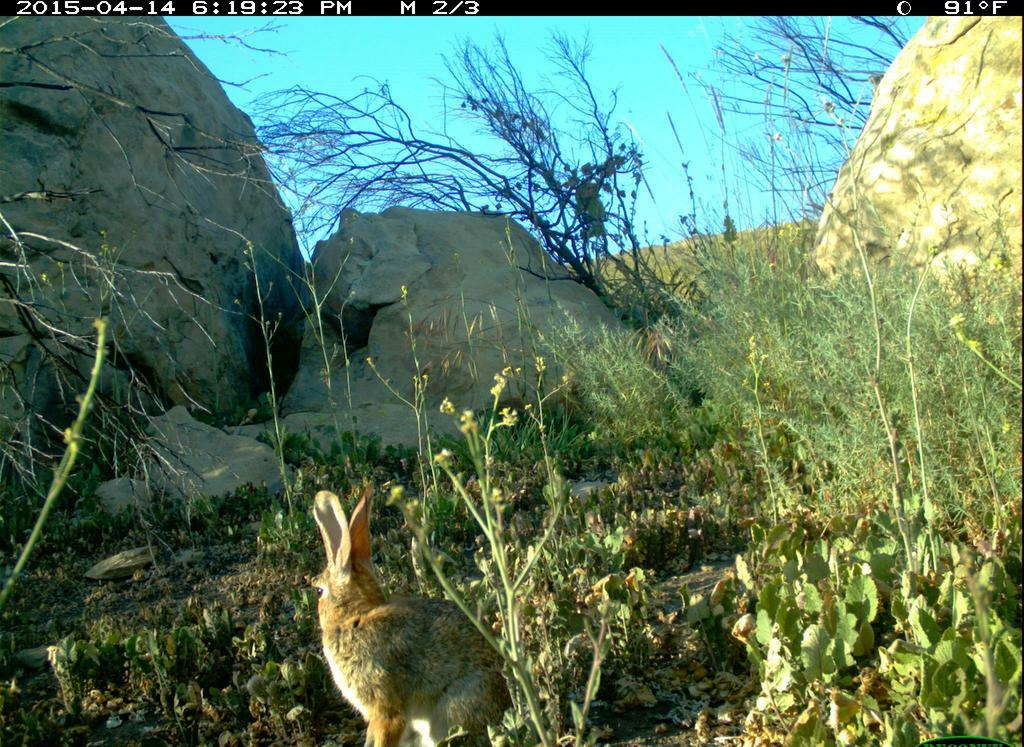rabbit: (306, 484, 525, 744)
